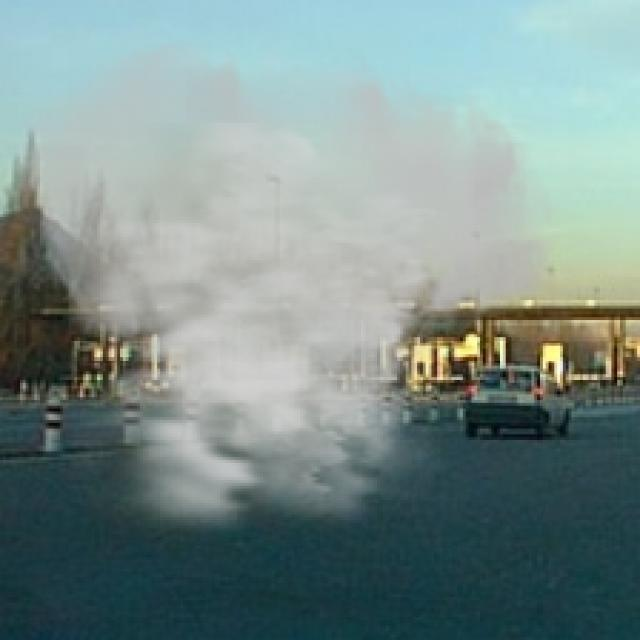Smoke: (14, 37, 560, 557)
